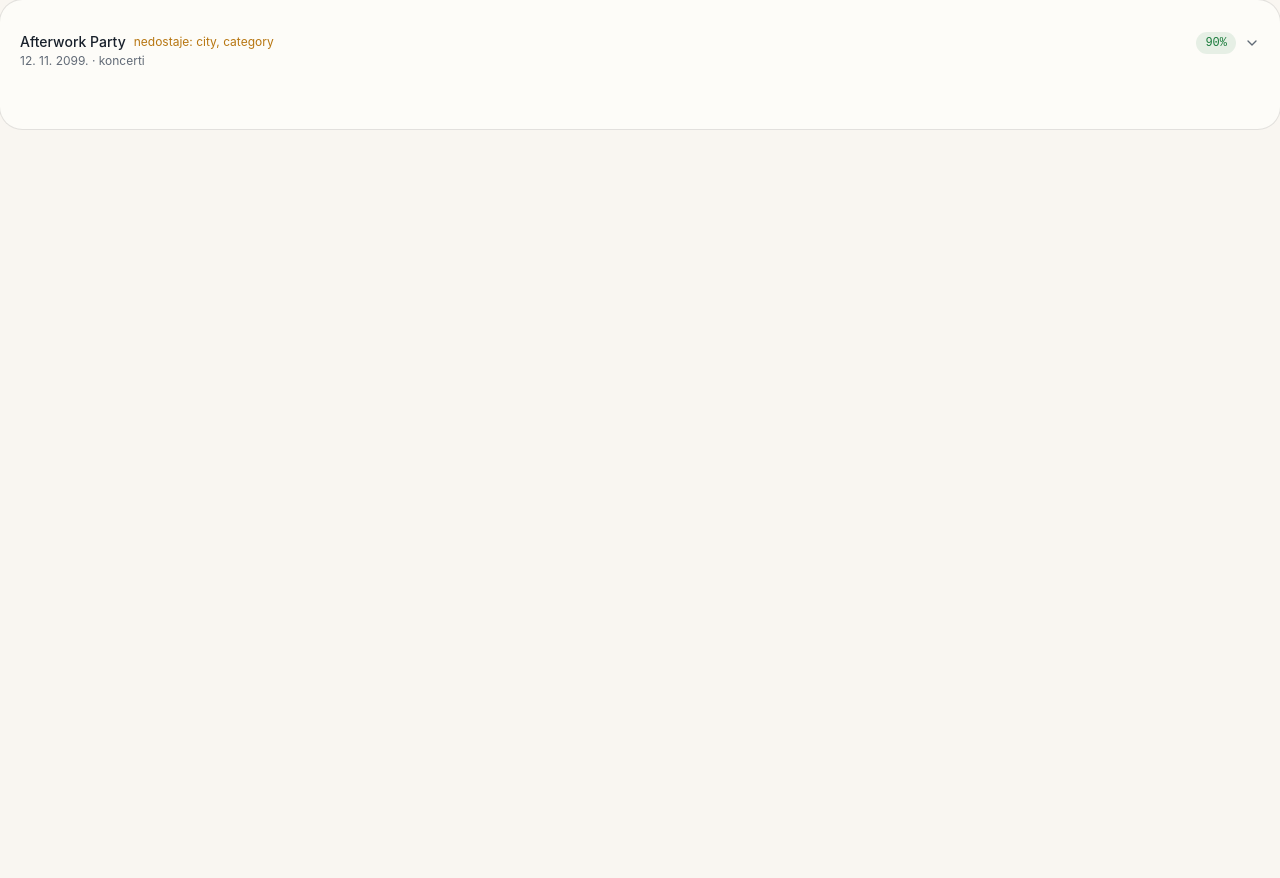
Test: address filled from the poster's venue name (VEN-04) › does not choose between two towns' venues of the same name
Step 1. Click the button → click(73, 42), box [0,16,1279,85]
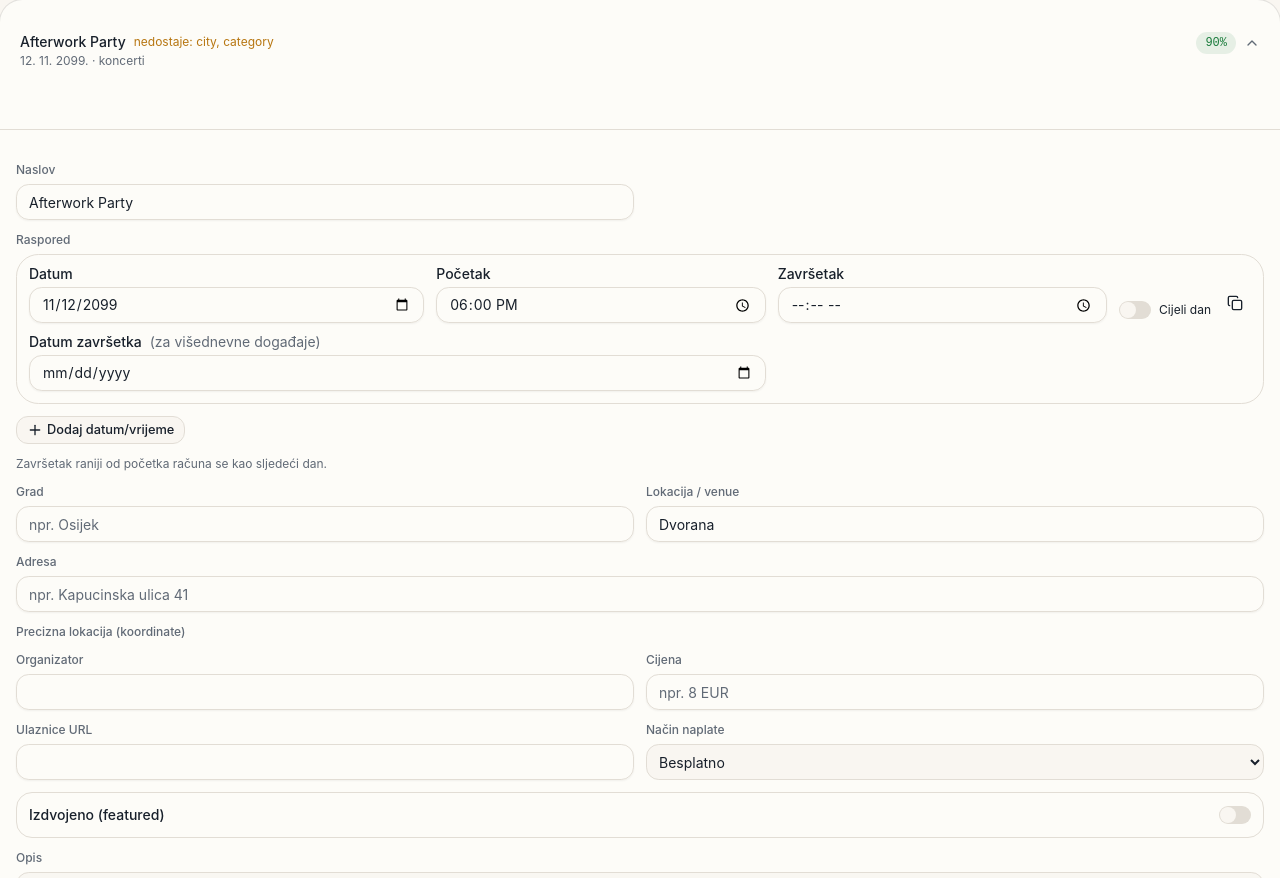
Now the label "Adresa" is shown, box [16,554,57,569]
